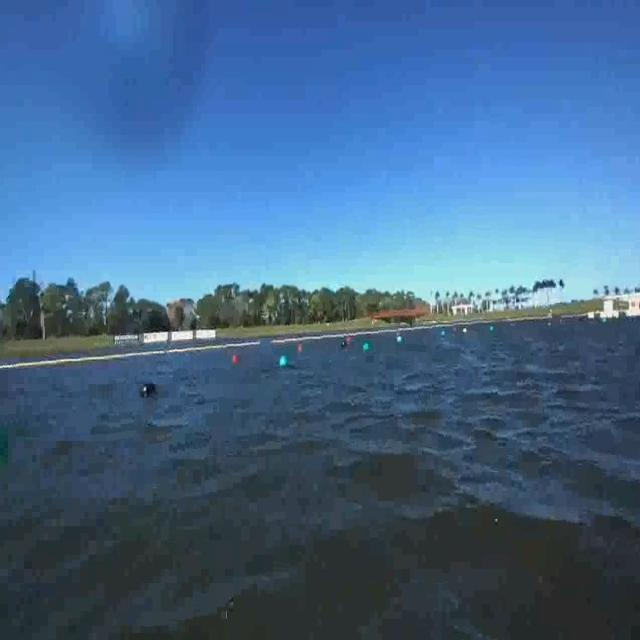black-buoy: (133, 355, 163, 410)
green-buoy: (280, 354, 288, 368)
green-column-buoy: (342, 340, 347, 352)
red-column-buoy: (234, 354, 240, 365)
